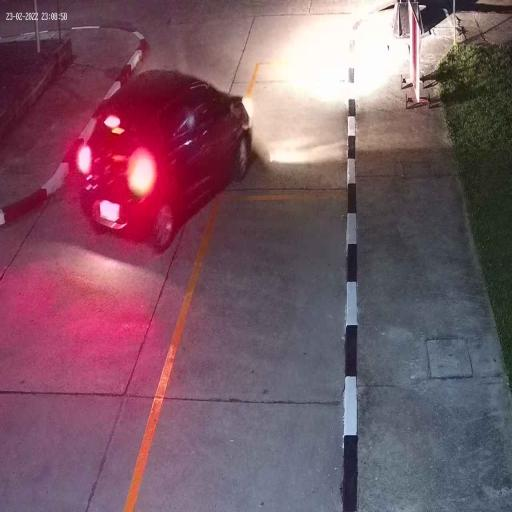car: (79, 67, 252, 252)
